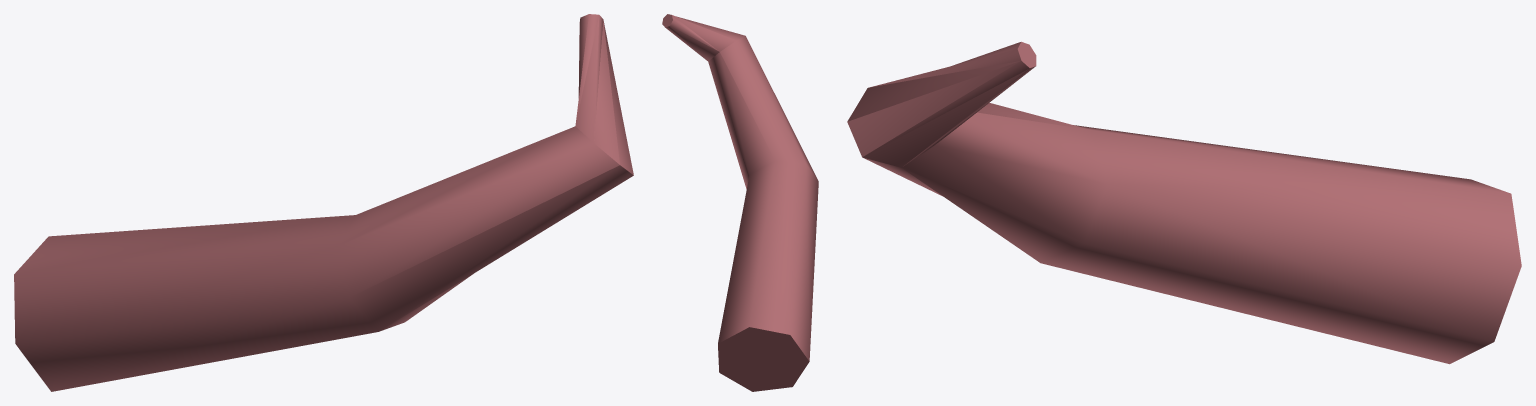
File: chimera_a_tail.obj
3 views of the same model, side by side, from view 1: azimuth 30°, elevation 25°; view 2: azimuth 150°, elevation 25°; view 3: azimuth 270°, elevation 25° (orthographic). The views are drawn at different scales.
Parts seen in each view (by area): view 1: chimera_a_tail; view 2: chimera_a_tail; view 3: chimera_a_tail.
Boxes of the visible parts, x1,y1,x2,y2 form: chimera_a_tail: (14, 14, 633, 391); chimera_a_tail: (662, 14, 818, 391); chimera_a_tail: (847, 41, 1521, 364).
Bounding box in the file's own units: 0.3881 × 0.377 × 0.4558.
